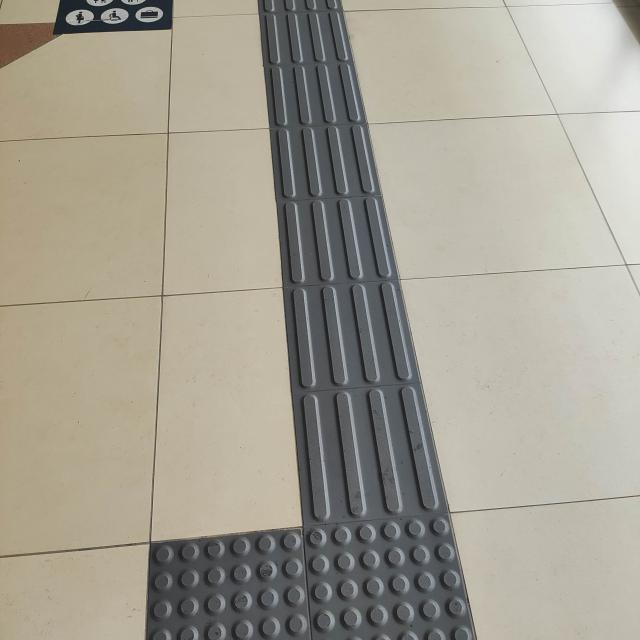lurus: (254, 21, 443, 509)
